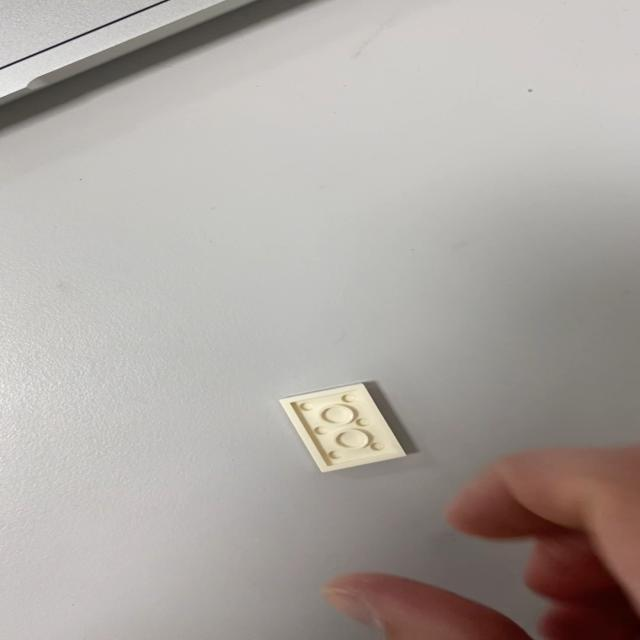C3x2x0: (276, 382, 406, 473)
